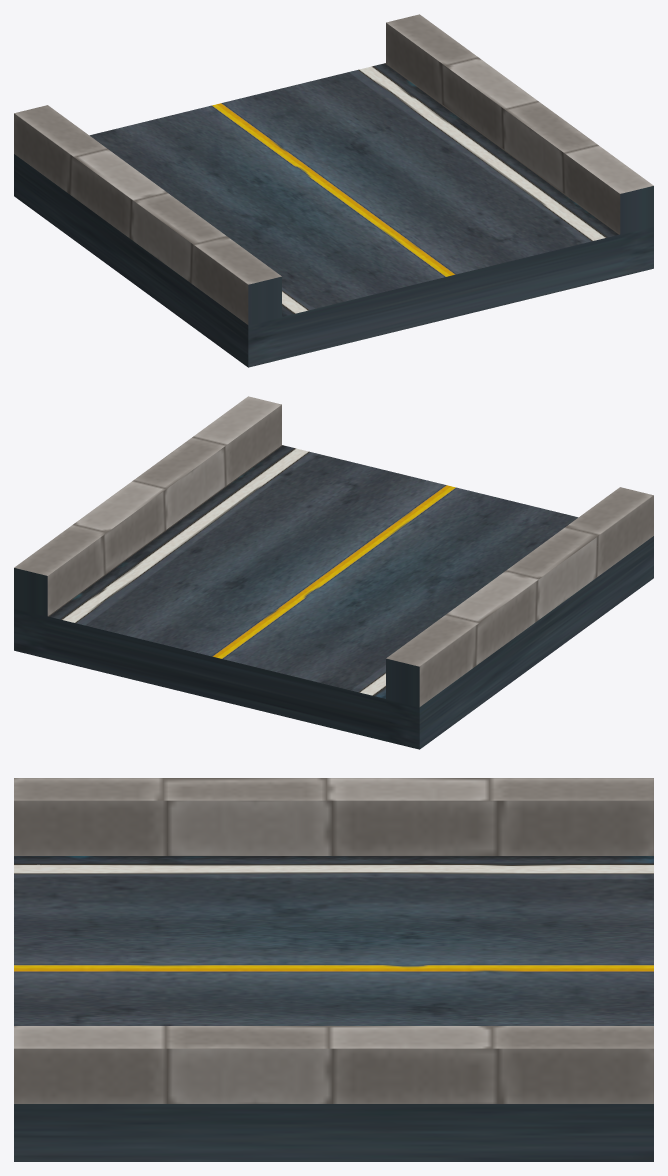
The model's file is straight_road.obj.
3 views of the same model, one above another, from view 1: azimuth 30°, elevation 25°; view 2: azimuth 150°, elevation 25°; view 3: azimuth 270°, elevation 25° (orthographic). The views are drawn at different scales.
Parts seen in each view (by area): view 1: Cube; view 2: Cube; view 3: Cube.
Part boxes in pixels (x1,y1,x2,y2): Cube: (14,14,653,367); Cube: (14,396,653,749); Cube: (14,778,653,1161).
Size of the model in its own units: 2 by 0.3905 by 2.
Materials: 1 (1 with a texture image).
